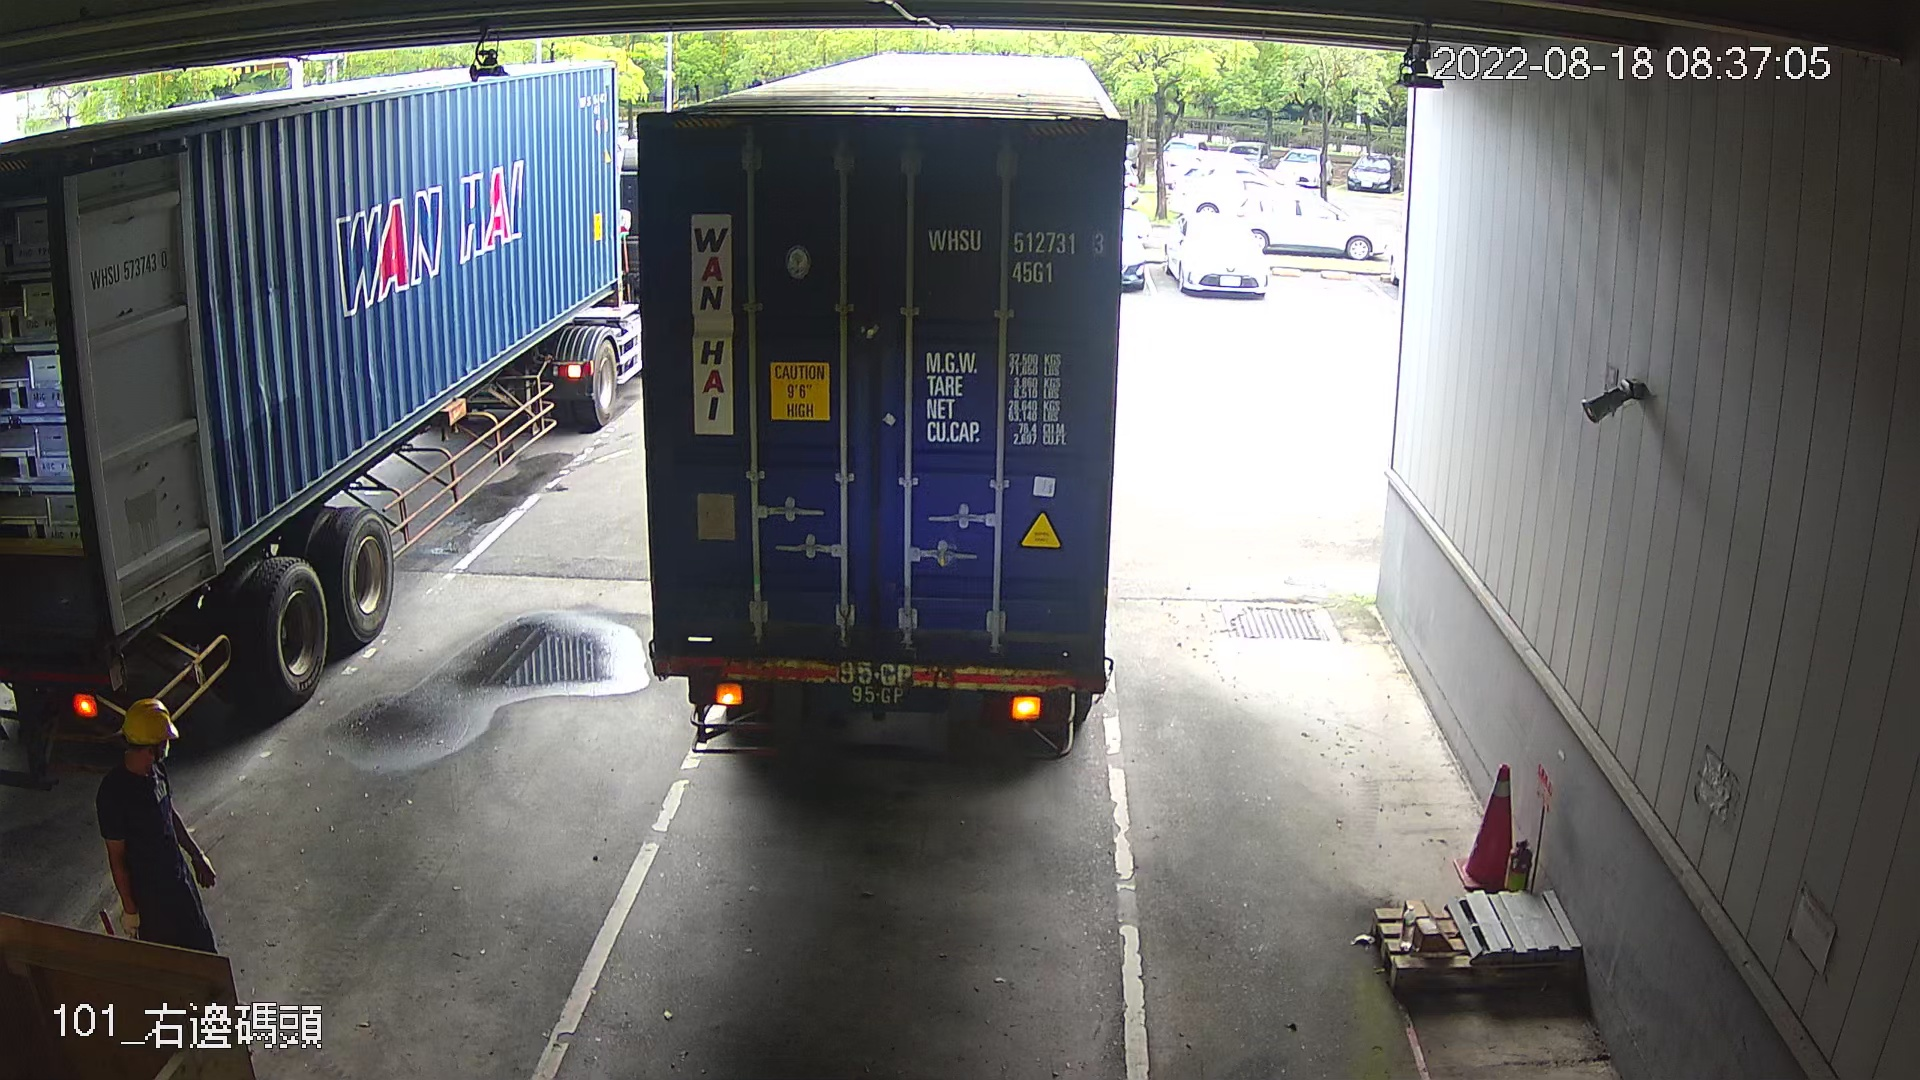container: (916, 218, 1112, 290)
